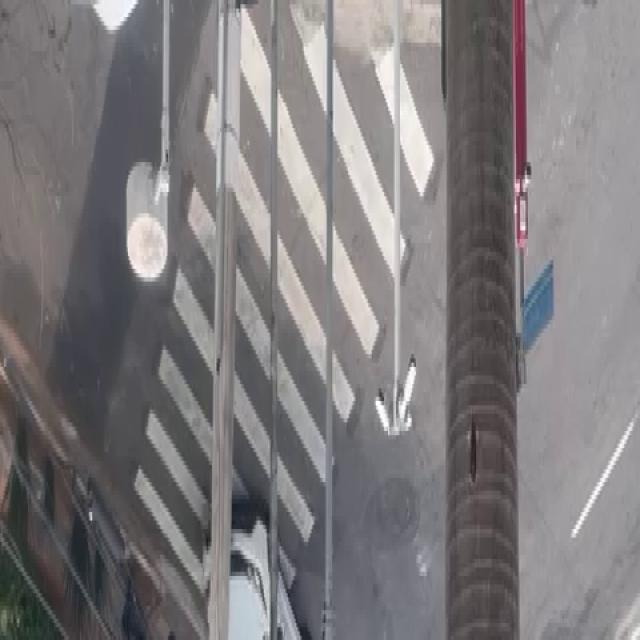car: (202, 480, 314, 640)
